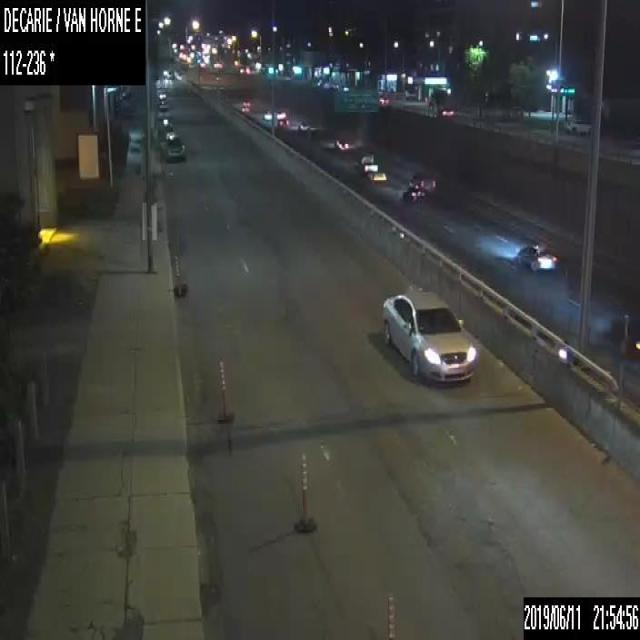construction: (294, 451, 316, 532), (214, 362, 232, 422), (174, 254, 184, 298), (386, 596, 393, 639)
vehicle: (377, 288, 478, 385), (513, 241, 558, 270), (610, 310, 639, 354), (161, 131, 185, 161), (408, 169, 436, 192), (564, 115, 592, 136), (358, 150, 378, 174), (402, 184, 424, 202), (157, 112, 173, 134), (334, 137, 349, 151), (438, 105, 454, 117), (157, 92, 167, 109), (371, 171, 386, 182), (297, 118, 308, 131), (261, 108, 272, 120), (276, 107, 287, 118), (278, 118, 288, 130), (238, 104, 249, 112), (242, 98, 249, 106)
